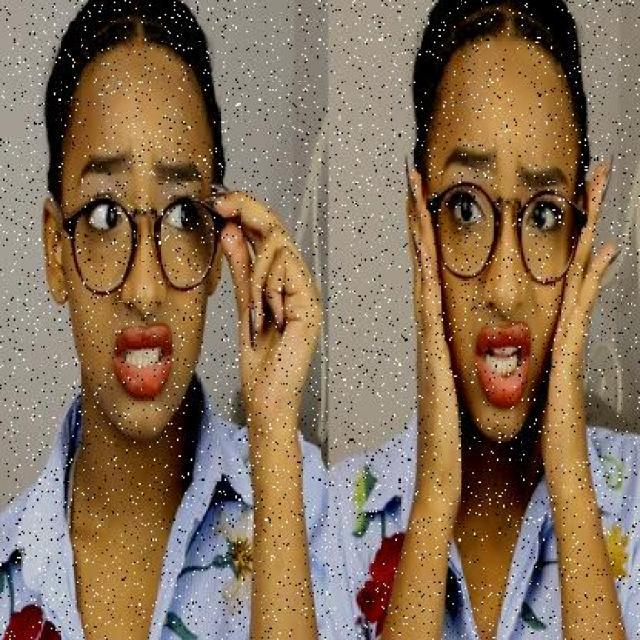glasses: (53, 188, 232, 302), (419, 178, 590, 297)
